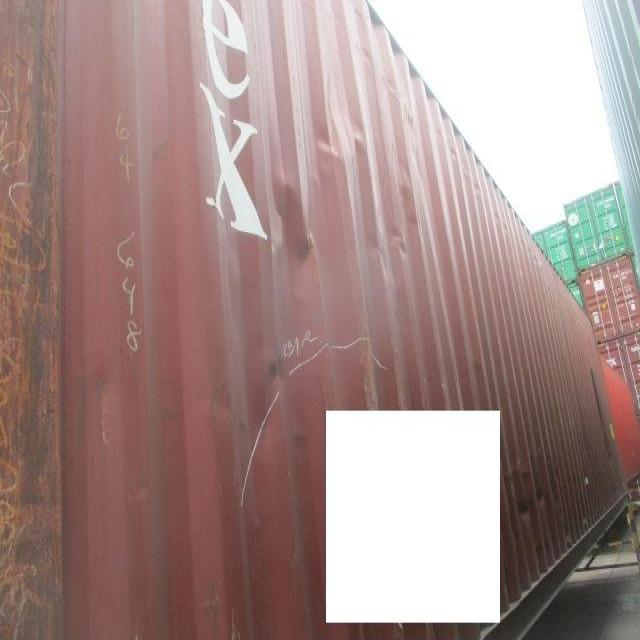dent: (257, 64, 385, 298), (206, 332, 312, 474)
